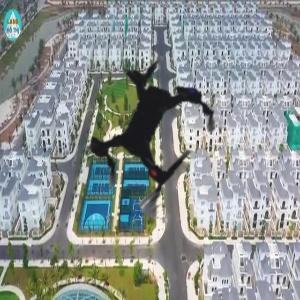drone: (37, 16, 274, 253)
